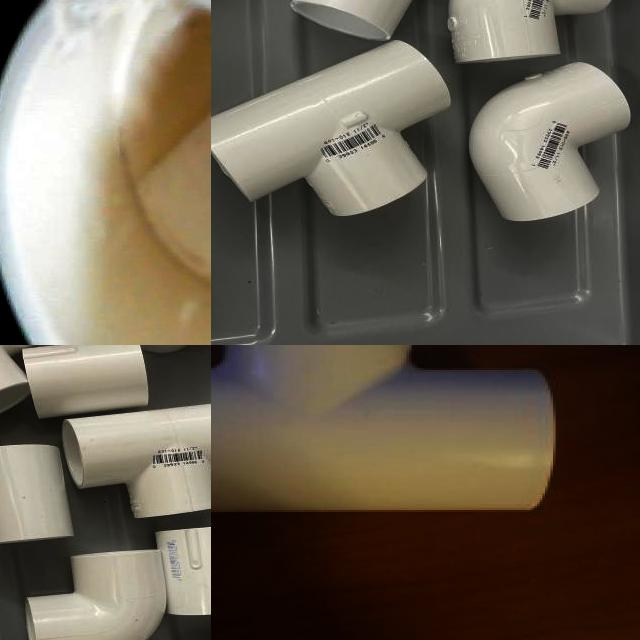Defective: (101, 0, 171, 65)
L Joint: (470, 63, 633, 224), (24, 550, 166, 640), (446, 0, 614, 65)
T Joint: (211, 345, 558, 516), (211, 41, 452, 218), (62, 405, 211, 522)
